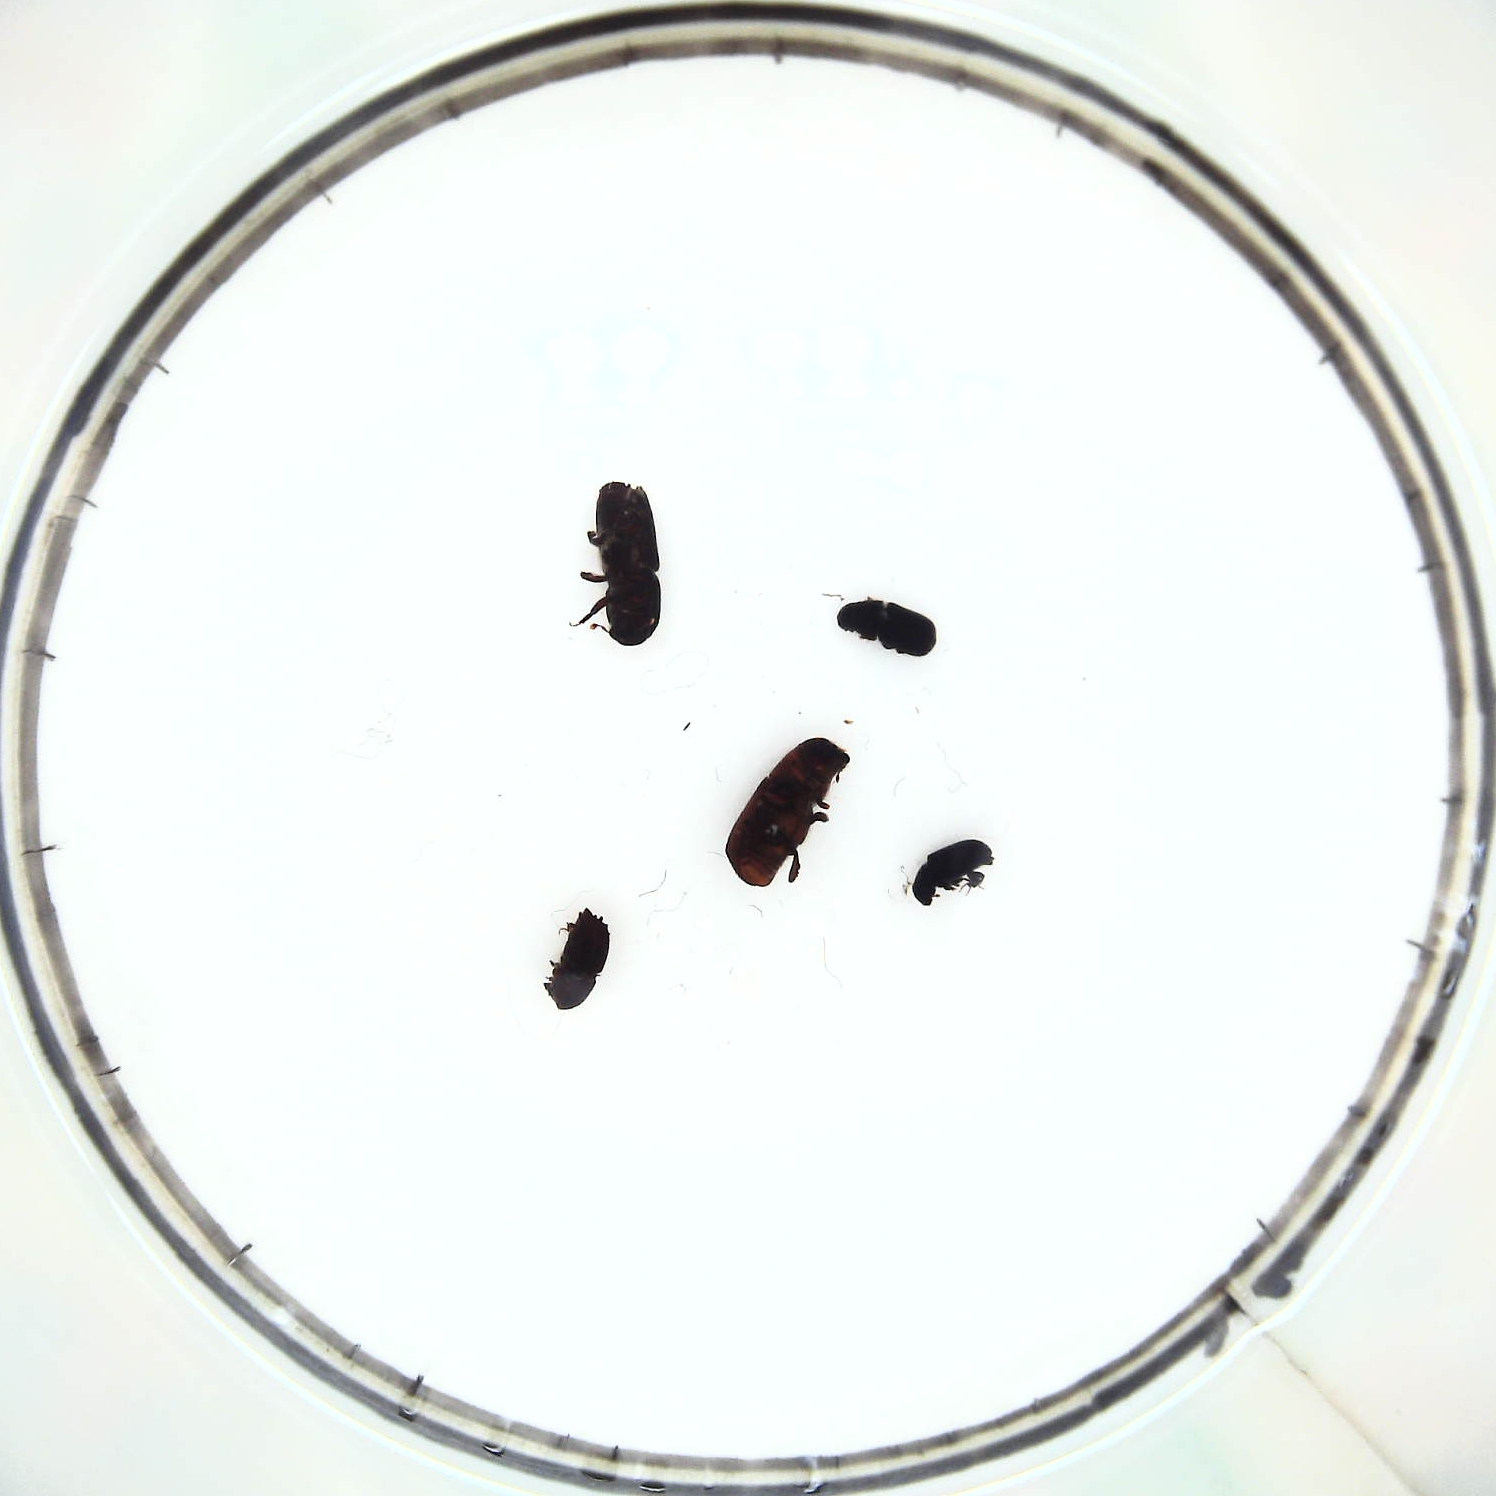Boerner: (592, 479, 664, 648)
Leconte: (725, 738, 847, 888)
Linnaeus: (549, 910, 612, 1012)
armandi: (834, 595, 938, 658)
coleoptera: (915, 837, 995, 907)
